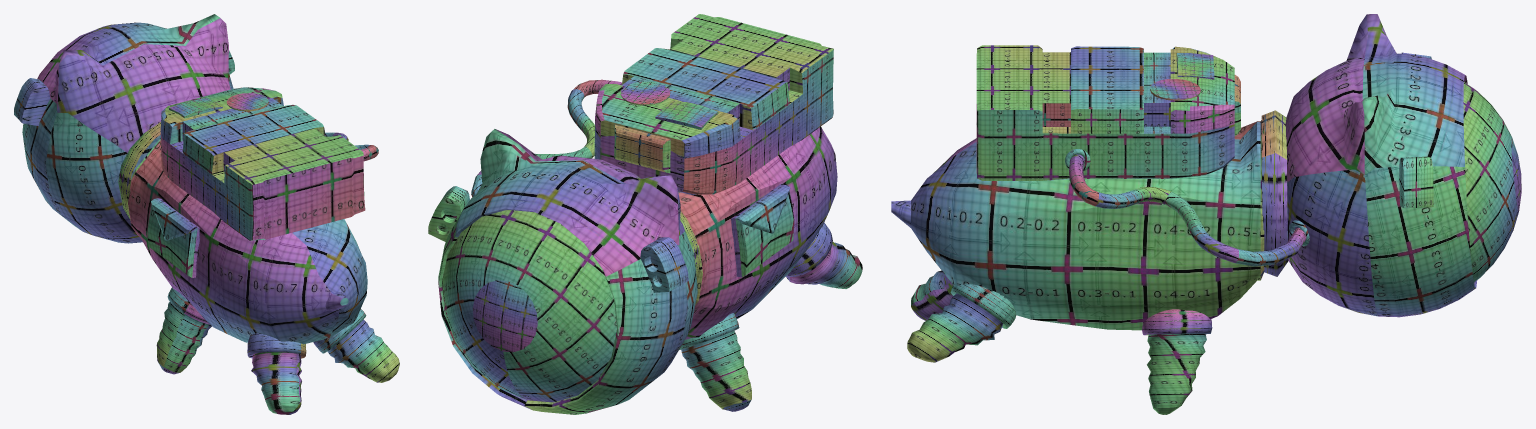
Rendered from AstroDog.fbx.
3 views of the same model, side by side, from view 1: azimuth 30°, elevation 25°; view 2: azimuth 150°, elevation 25°; view 3: azimuth 270°, elevation 25° (orthographic). The views are drawn at different scales.
Parts seen in each view (by area): view 1: pSphere1, pCube2, pCube1, pCylinder8, pCylinder9, pCylinder4, pCube11, pCylinder1, polySurface1, pCube5, pCylinder5, pCylinder11; view 2: pCube1, pSphere1, pSphere4, pCube2, pCylinder4, pCube11, pCylinder8, polySurface1, pCylinder11, polySurface2, pCube5, pCylinder5 (+1 smaller); view 3: pCube2, pSphere1, pCube1, pSphere4, pCylinder6, pCylinder9, pCylinder11, pCylinder1, polySurface2, pCylinder8, pCube5, pCylinder5.
Part boxes in pixels (box(x1,y1,x2,y2)): pSphere1: box(22, 14, 233, 243); pCube2: box(126, 138, 367, 344); pCube1: box(160, 87, 365, 240); pCylinder8: box(247, 333, 306, 414); pCylinder9: box(313, 309, 399, 382); pCylinder4: box(156, 287, 211, 374); pCube11: box(147, 198, 199, 277); pCylinder1: box(118, 122, 160, 218); polySurface1: box(14, 78, 50, 126); pCube5: box(169, 98, 222, 118); pCylinder5: box(226, 93, 268, 111); pCylinder11: box(325, 132, 378, 161); pCube1: box(594, 14, 833, 194); pSphere1: box(438, 129, 697, 414); pSphere4: box(442, 210, 616, 402); pCube2: box(641, 126, 837, 339); pCylinder4: box(679, 313, 751, 411); pCube11: box(731, 183, 794, 277); pCylinder8: box(785, 222, 862, 288); polySurface1: box(640, 237, 688, 292); pCylinder11: box(471, 79, 622, 196); polySurface2: box(428, 186, 469, 241); pCube5: box(655, 101, 718, 129); pCylinder5: box(620, 81, 670, 105); pCube2: box(891, 115, 1264, 330); pSphere1: box(1285, 14, 1477, 317); pCube1: box(976, 45, 1240, 180); pSphere4: box(1463, 82, 1521, 282); pCylinder6: box(1142, 309, 1212, 414); pCylinder9: box(907, 284, 1016, 362); pCylinder11: box(1069, 154, 1306, 266); pCylinder1: box(1261, 110, 1288, 276); polySurface2: box(1399, 156, 1433, 208); pCylinder8: box(911, 270, 953, 320); pCube5: box(1176, 53, 1214, 79); pCylinder5: box(1150, 79, 1200, 100).
Bounding box in the file's own units: 1.74 × 1.78 × 3.17.
Materials: 8 (8 with a texture image).
